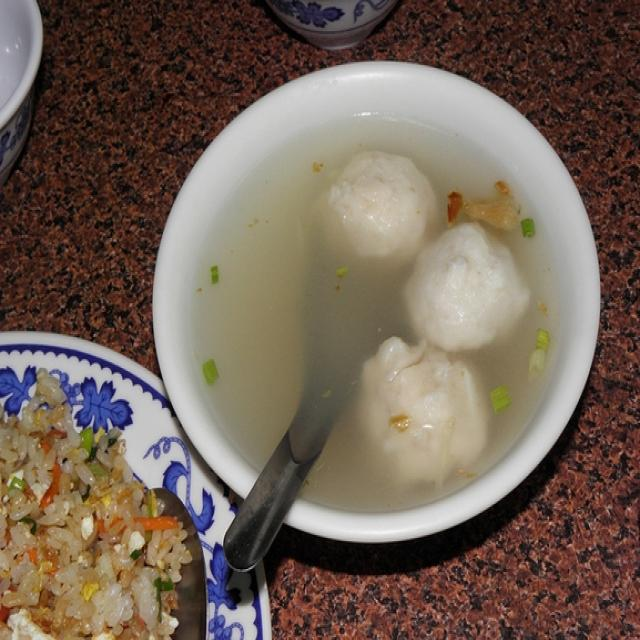熟制海鲜: (150, 74, 606, 538)
